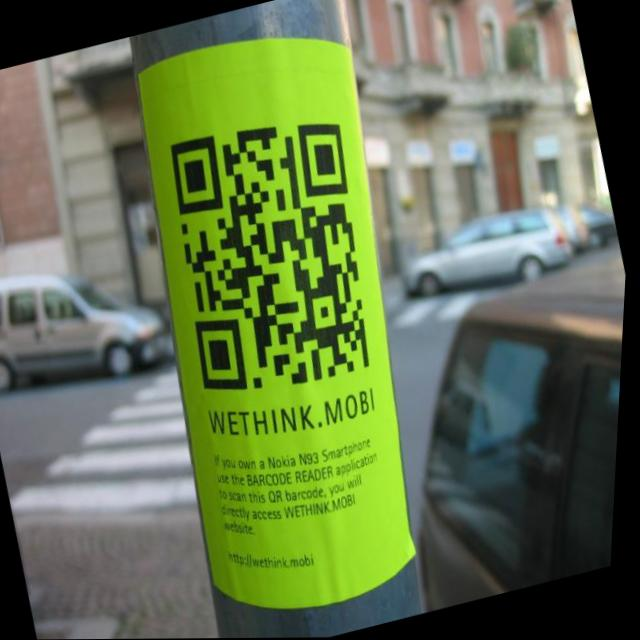qrcode: (148, 105, 401, 408)
